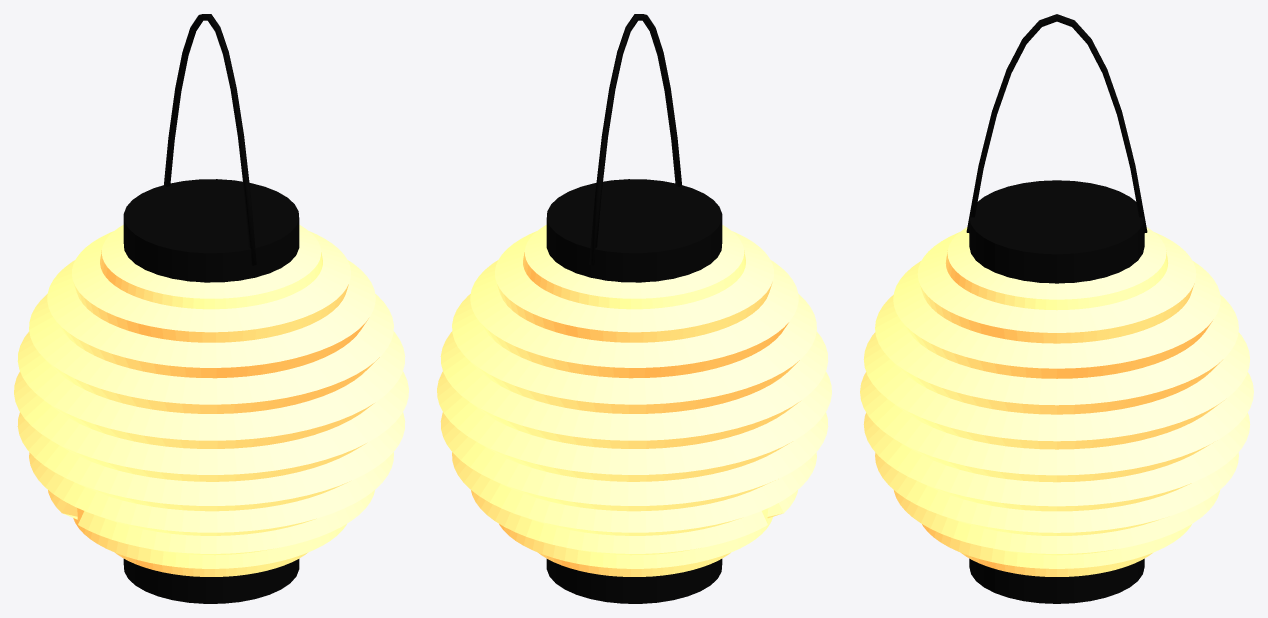
File: Japanese lantern _ Chochin.glb
3 views of the same model, side by side, from view 1: azimuth 30°, elevation 25°; view 2: azimuth 150°, elevation 25°; view 3: azimuth 270°, elevation 25° (orthographic).
Visible parts, largest first — view 1: paper, top, bottom, handle; view 2: paper, top, bottom, handle; view 3: paper, top, bottom, handle.
Boxes of the visible parts, left/top/right/bottom form: paper: left=14, top=225, right=408, bottom=576; top: left=123, top=179, right=299, bottom=282; bottom: left=123, top=559, right=299, bottom=603; handle: left=164, top=14, right=256, bottom=265; paper: left=437, top=225, right=831, bottom=576; top: left=546, top=179, right=722, bottom=282; bottom: left=546, top=559, right=722, bottom=603; handle: left=589, top=14, right=681, bottom=265; paper: left=860, top=227, right=1253, bottom=576; top: left=969, top=180, right=1144, bottom=283; bottom: left=969, top=558, right=1144, bottom=603; handle: left=966, top=14, right=1147, bottom=232.
Size of the model in its own units: 2.25 by 3.47 by 2.25.
